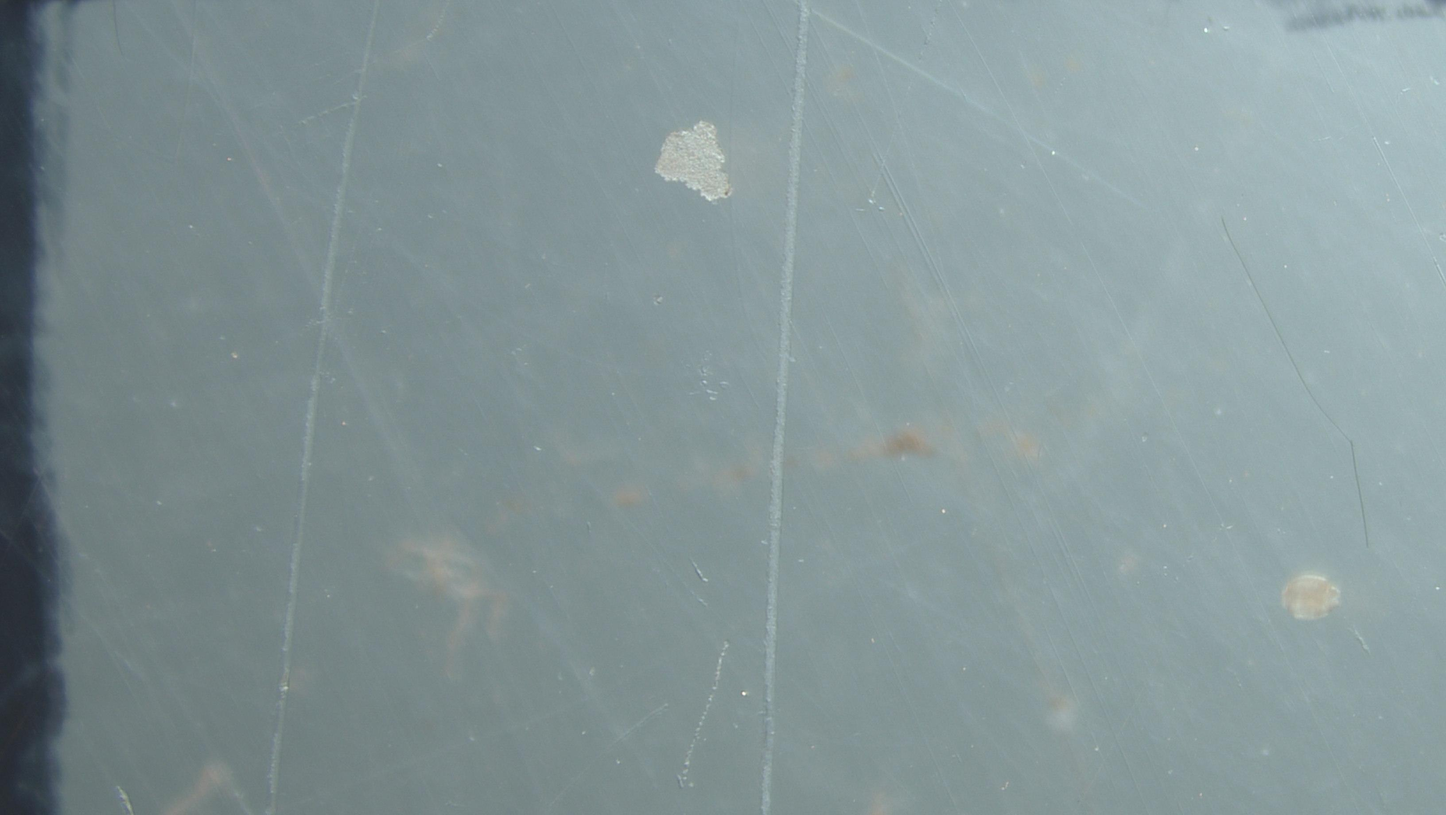live: (1281, 572, 1341, 621)
